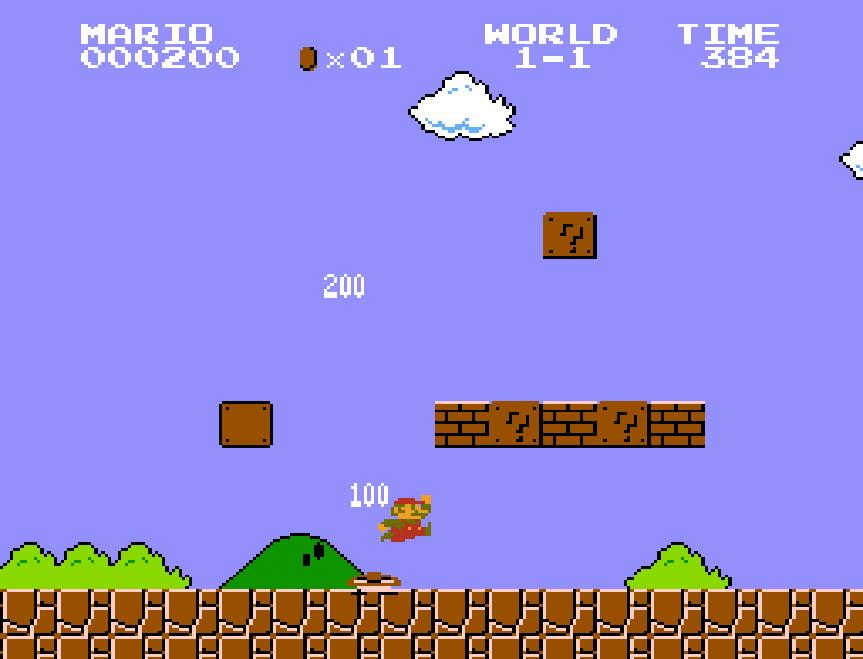little_mario: (376, 494, 434, 544)
